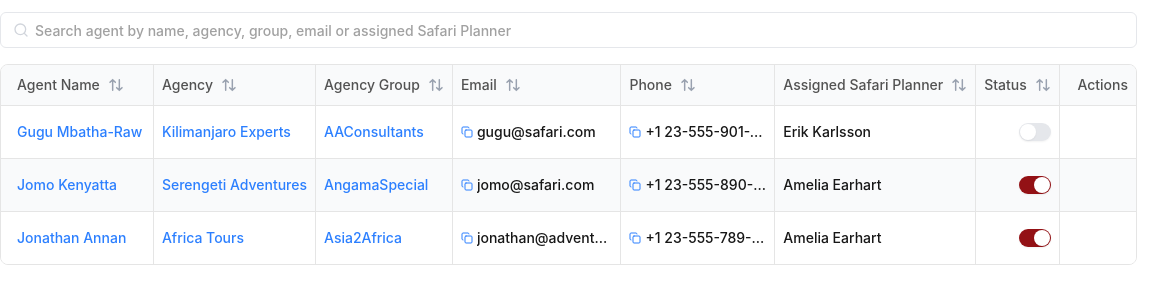
AgentList › Copy Functionality › should display check icon after copy button is clicked
This screenshot has width=1152, height=282.
What coordinates should you click on to do the following:
click the button with aria-label "Copy gugu@safari.com"
I would click on:
 (537, 132)
Its box is [461, 122, 612, 142].
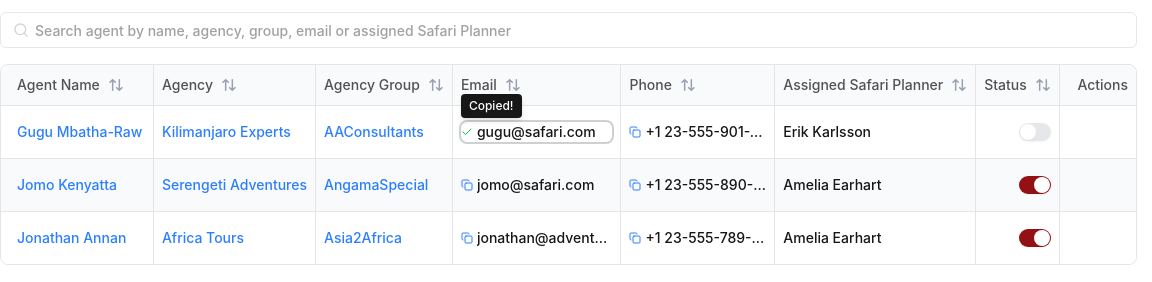
Expected: the text "Copied!" is shown, [461, 94, 522, 118]
